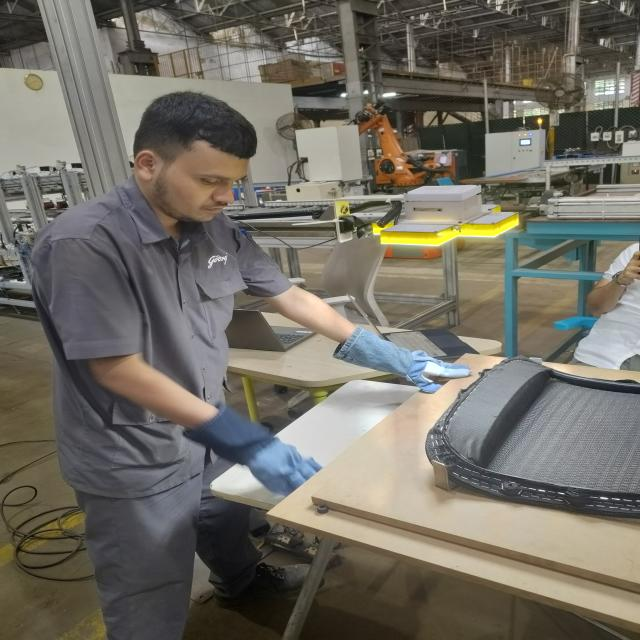Gloves-Detection: (191, 407, 318, 486), (334, 323, 466, 391)
